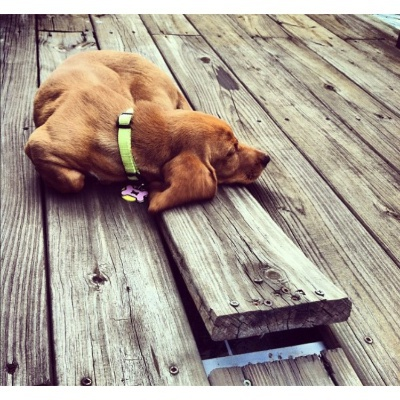daisy: (150, 84, 276, 226)
